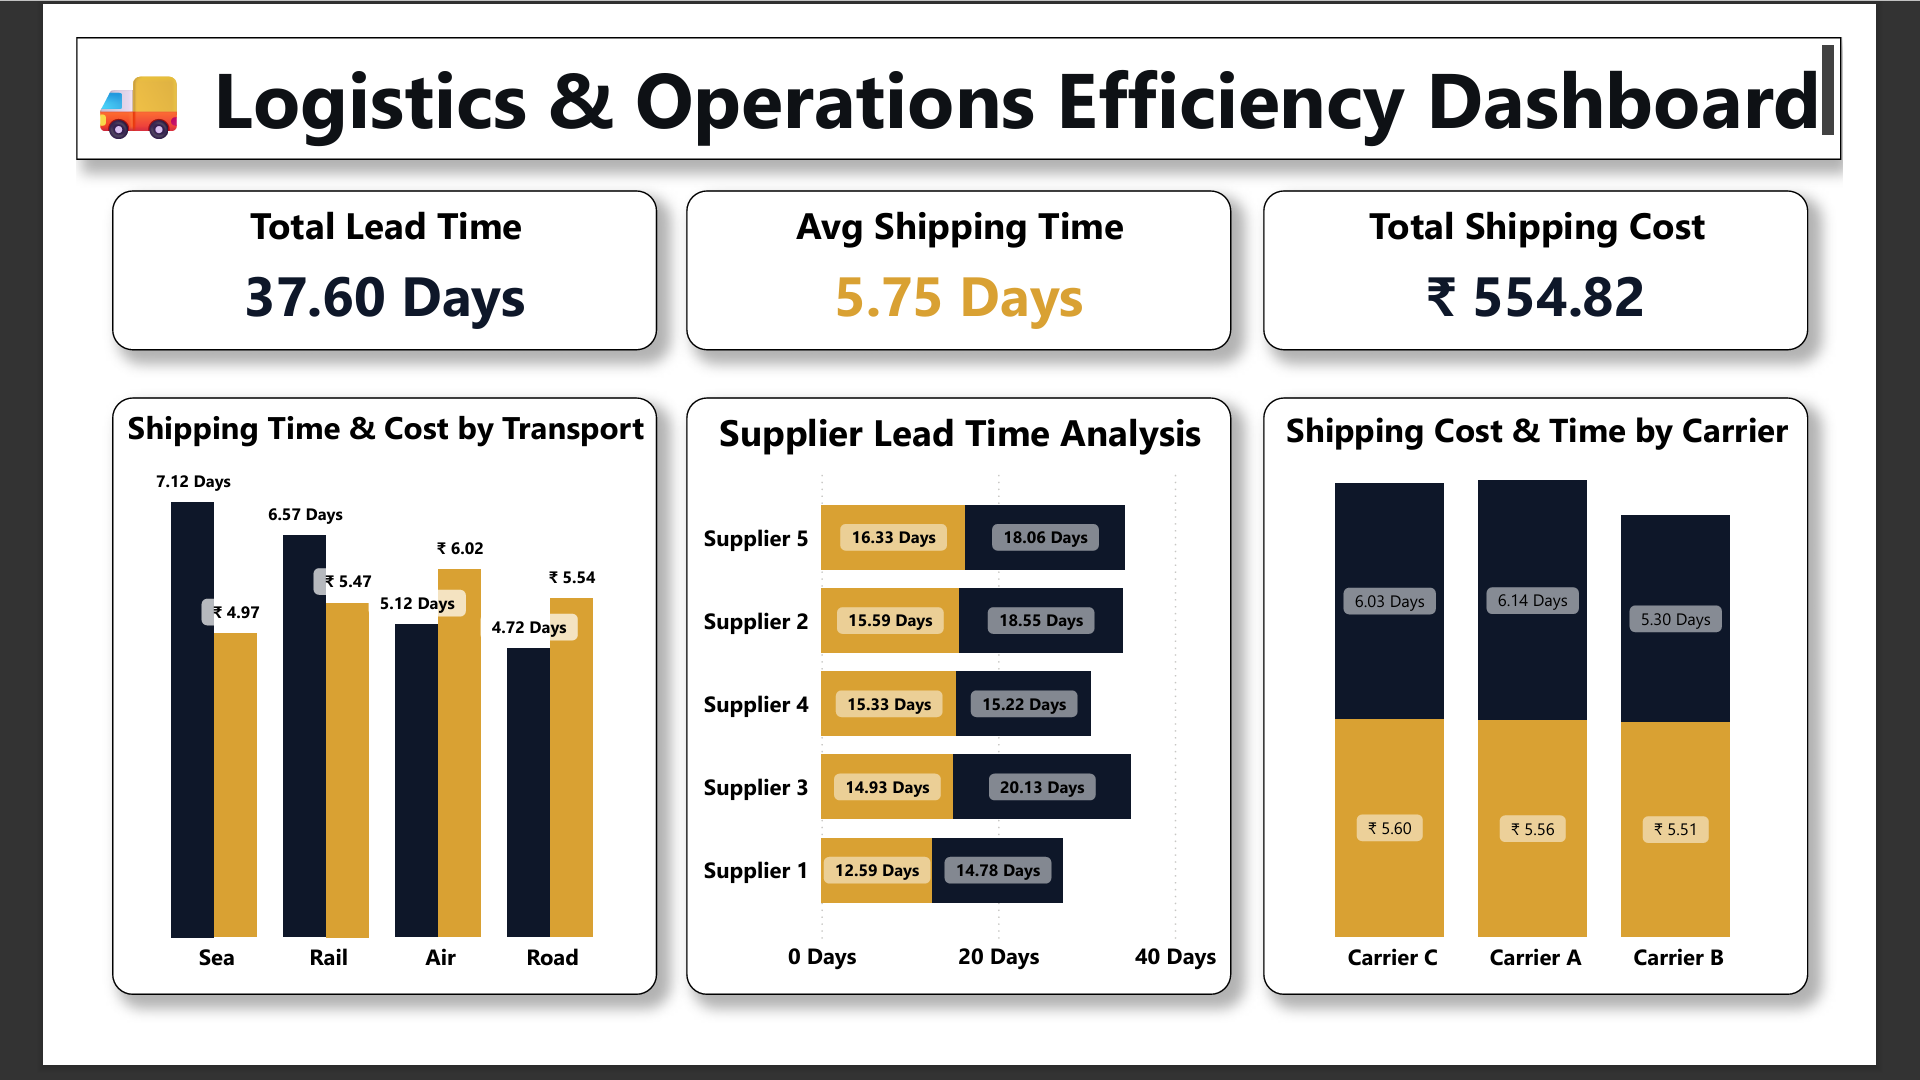

The page's visual inventory and layout, read from the dashboard file:
{"tool":"powerbi","page":{"name":"Supply Chain & Logistics Efficiency","canvas":[1280,720],"ordinal":1},"visuals":[{"type":"card","title":"Total Lead Time","fields":{"Values":["Avg(Table.Total_Lead_Time(Days))"]},"box":[26.5,111.5,395,115.3],"z":0},{"type":"card","title":"Avg Shipping Time","fields":{"Values":["Avg(Table.Shipping times)"]},"box":[442.2,111.5,395,115.3],"z":1000},{"type":"card","title":"Total Shipping Cost","fields":{"Values":["Sum(Table.Shipping costs)"]},"box":[859.8,111.5,395,115.3],"z":2000},{"type":"lineClusteredColumnComboChart","title":"Shipping Time & Cost by Transport","fields":{"Category":["Table.Transportation modes"],"Y":["Avg(Table.Shipping times)","Avg(Table.Shipping costs)"]},"box":[26.5,260.8,395,432.8],"z":3000},{"type":"barChart","title":"Supplier Lead Time Analysis","fields":{"Category":["Table.Supplier name"],"Y":["Avg(Table.Manufacturing lead time)","Avg(Table.Lead time)"]},"box":[442.2,260.8,395,432.8],"z":4000},{"type":"textbox","box":[0,0,1279.4,88.8],"z":5000},{"type":"columnChart","title":"Shipping Cost & Time by Carrier ","fields":{"Category":["Table.Shipping carriers"],"Y":["Avg(Table.Shipping costs)","Avg(Table.Shipping times)"]},"box":[859.8,260.8,395,432.8],"z":6000}]}

Visuals, with their boxes in screenshot pixels (x1, y1, x2, y2), scaled from the page's 1280x720 canvas onto the 1920x1080 screenshot:
"Total Lead Time" card: select_region(40, 167, 632, 340)
"Avg Shipping Time" card: select_region(663, 167, 1256, 340)
"Total Shipping Cost" card: select_region(1290, 167, 1882, 340)
"Shipping Time & Cost by Transport" lineClusteredColumnComboChart: select_region(40, 391, 632, 1040)
"Supplier Lead Time Analysis" barChart: select_region(663, 391, 1256, 1040)
textbox: select_region(0, 0, 1919, 133)
"Shipping Cost & Time by Carrier " columnChart: select_region(1290, 391, 1882, 1040)
